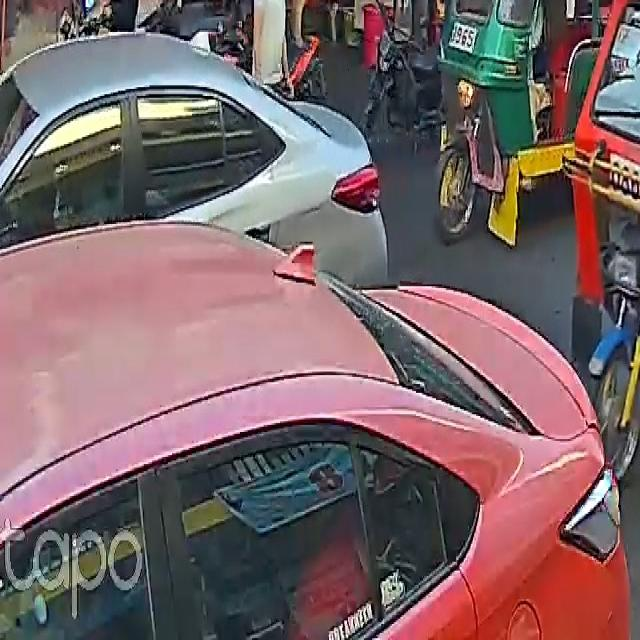car: (0, 199, 630, 640), (0, 7, 398, 292)
